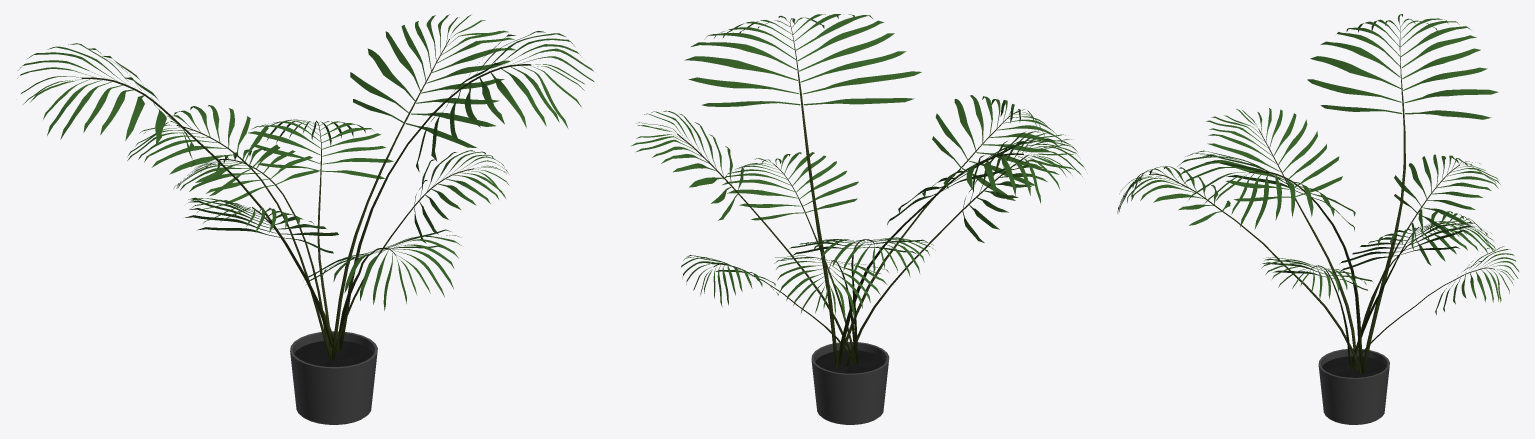
Rendered from veg.obj.
The picture shows the model from 3 angles, left to right: view 1: azimuth 30°, elevation 25°; view 2: azimuth 150°, elevation 25°; view 3: azimuth 270°, elevation 25°; orthographic projection. The views are drawn at different scales.
Size of the model in its own units: 5.79 by 4.21 by 5.13.
